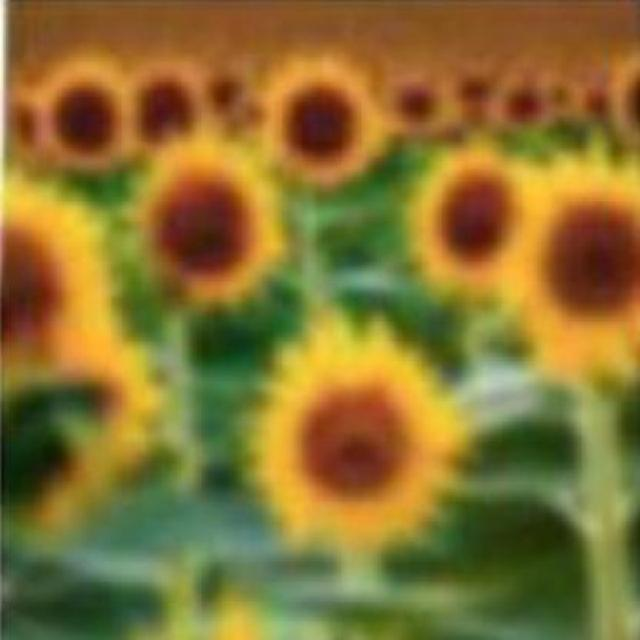sunflower: (245, 323, 460, 551), (509, 160, 640, 369), (131, 142, 284, 308), (403, 149, 535, 295)
